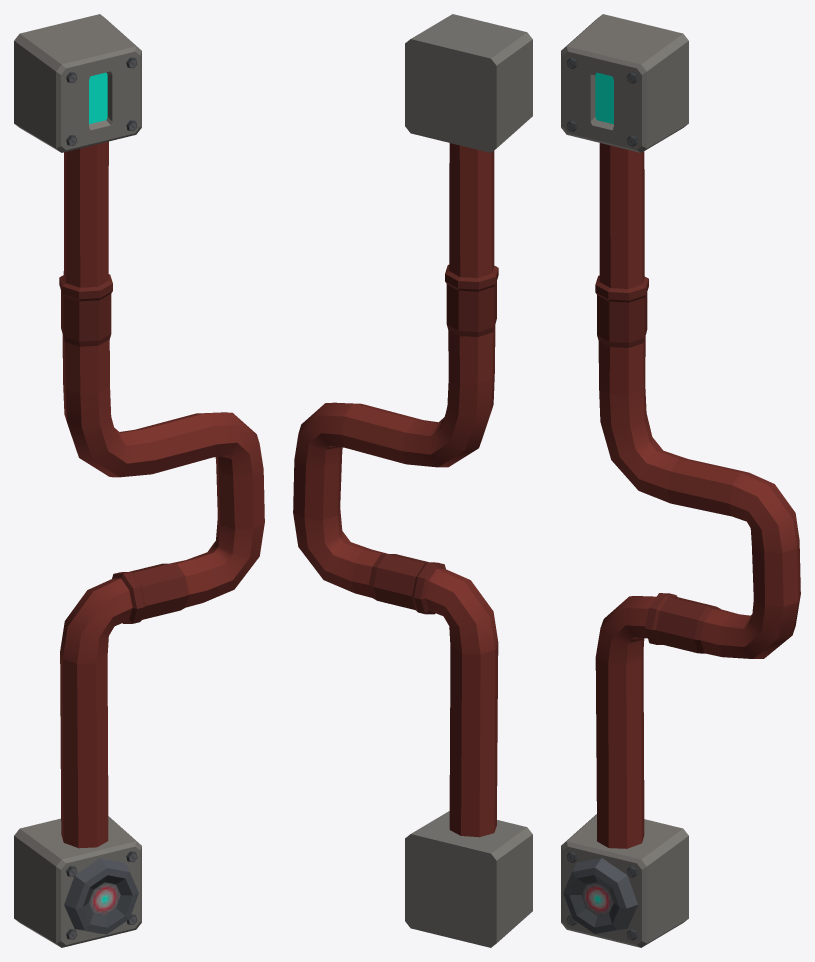
The model's file is SM_Prop_Greebles_22.fbx.
3 views of the same model, side by side, from view 1: azimuth 30°, elevation 25°; view 2: azimuth 150°, elevation 25°; view 3: azimuth 330°, elevation 25° (orthographic).
Parts seen in each view (by area): view 1: SM_Prop_Greebles_22; view 2: SM_Prop_Greebles_22; view 3: SM_Prop_Greebles_22.
Boxes of the visible parts, x1,y1,x2,y2 form: SM_Prop_Greebles_22: [14, 14, 264, 947]; SM_Prop_Greebles_22: [293, 14, 532, 947]; SM_Prop_Greebles_22: [561, 14, 800, 947].
Size of the model in its own units: 36.12 by 137 by 13.44.
